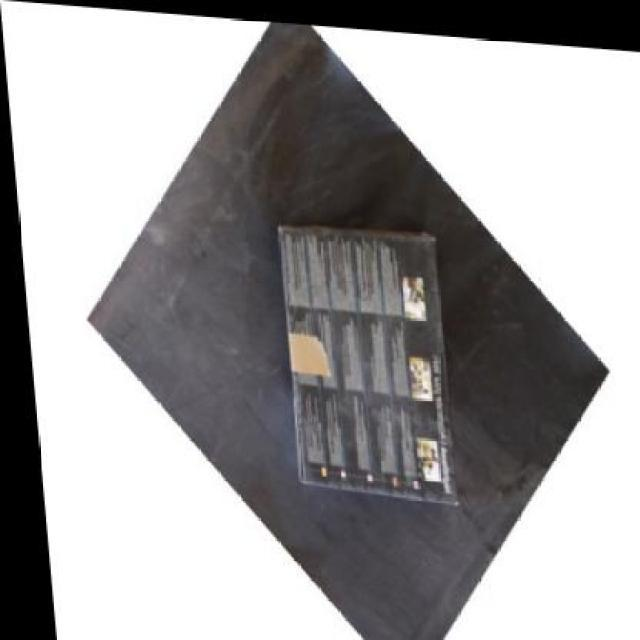box: (274, 214, 448, 492)
